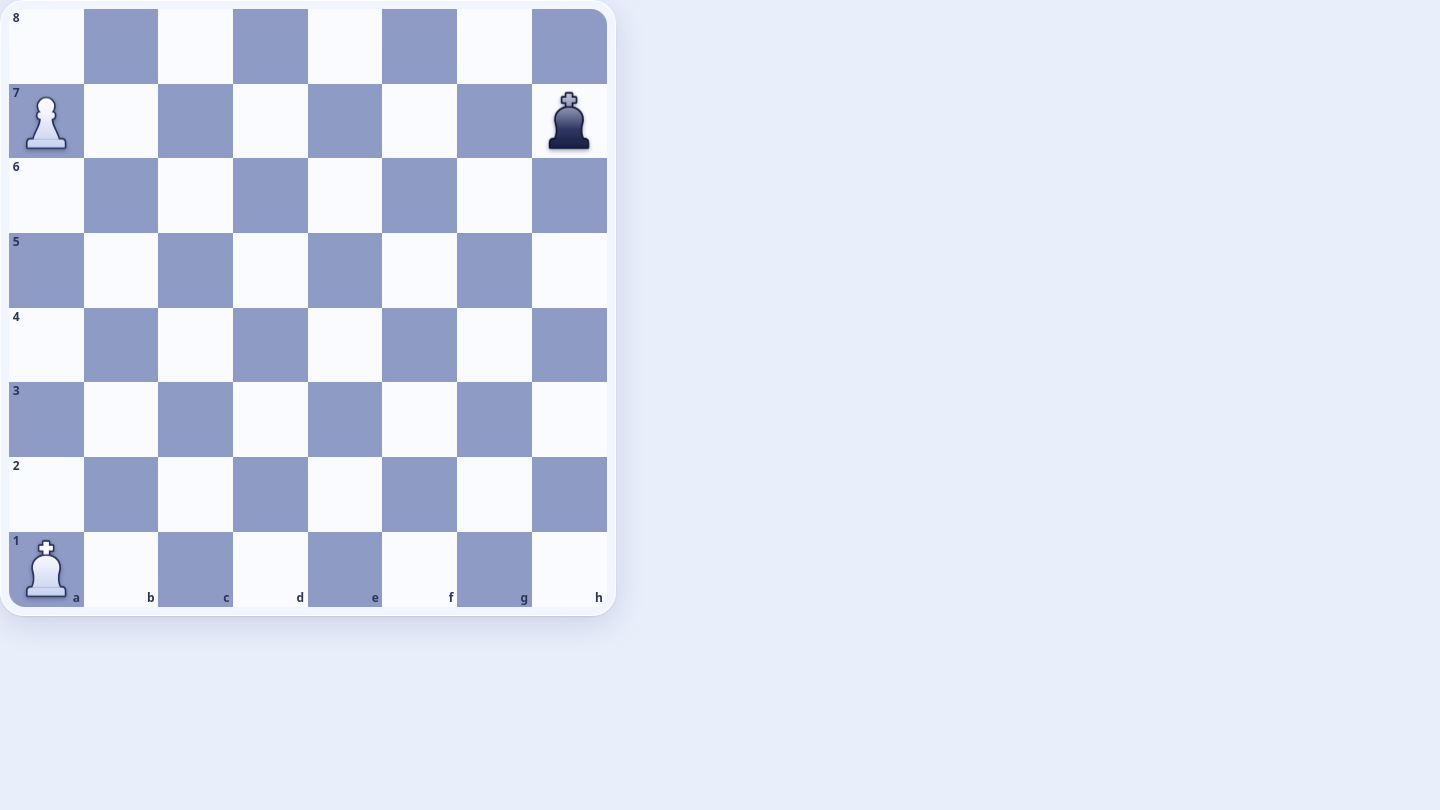
Test: ChessBoard: превращение › drag на последнюю горизонталь тоже открывает диалог
The width and height of the screenshot is (1440, 810).
Press the mouse on the table at (308, 308), box [9, 9, 607, 607]
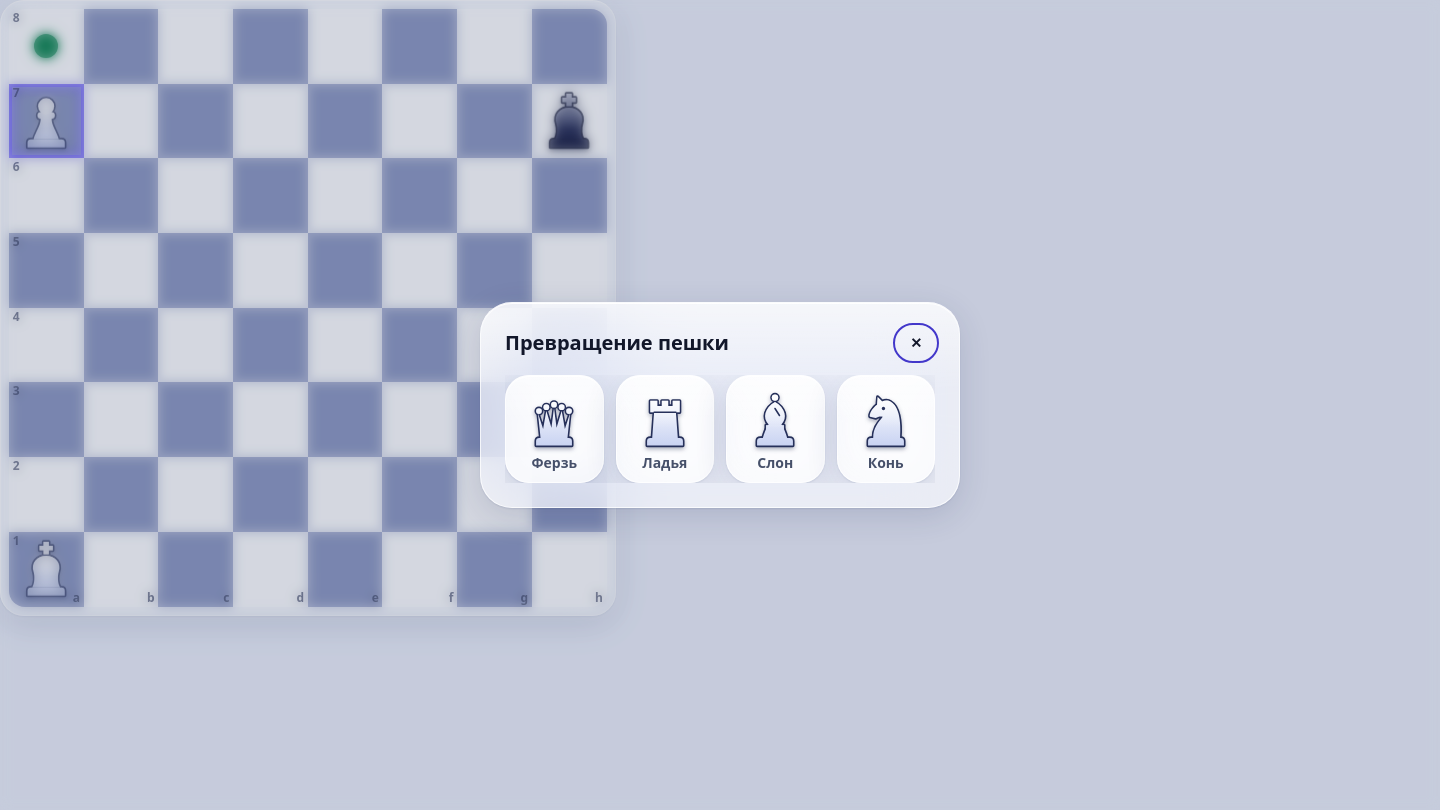
Expected: the dialog "Превращение пешки" is shown, [480, 302, 960, 508]
